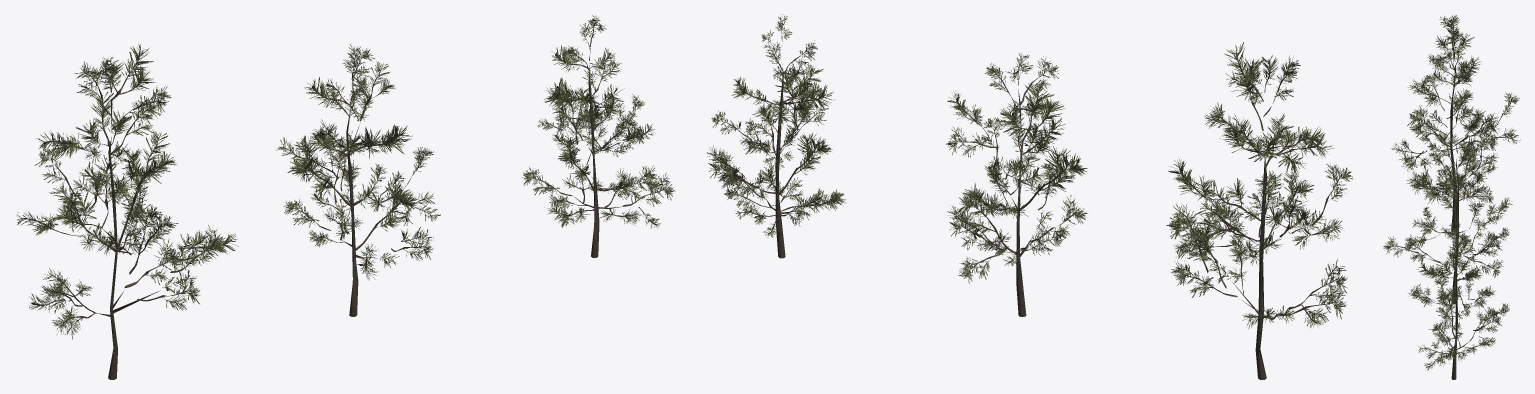
3 renders of one model, left to right at view 1: azimuth 30°, elevation 25°; view 2: azimuth 150°, elevation 25°; view 3: azimuth 270°, elevation 25°, orthographic. The views are drawn at different scales.
Visible parts, largest first — view 1: pine_sapling_small_a, pine_sapling_small_b, pine_sapling_small_c; view 2: pine_sapling_small_a, pine_sapling_small_b, pine_sapling_small_c; view 3: pine_sapling_small_a, pine_sapling_small_b, pine_sapling_small_c.
Part boxes in pixels (x1,y1,x2,y2): pine_sapling_small_a: (16,44,238,379); pine_sapling_small_b: (276,44,440,316); pine_sapling_small_c: (522,15,675,257); pine_sapling_small_a: (1166,42,1353,379); pine_sapling_small_b: (945,52,1087,316); pine_sapling_small_c: (707,14,845,258); pine_sapling_small_a: (1390,15,1520,231); pine_sapling_small_b: (1383,133,1512,304); pine_sapling_small_c: (1408,222,1509,379).
Size of the model in its own units: 2.64 by 1.3 by 0.7703.
Materials: 2 (2 with a texture image).
